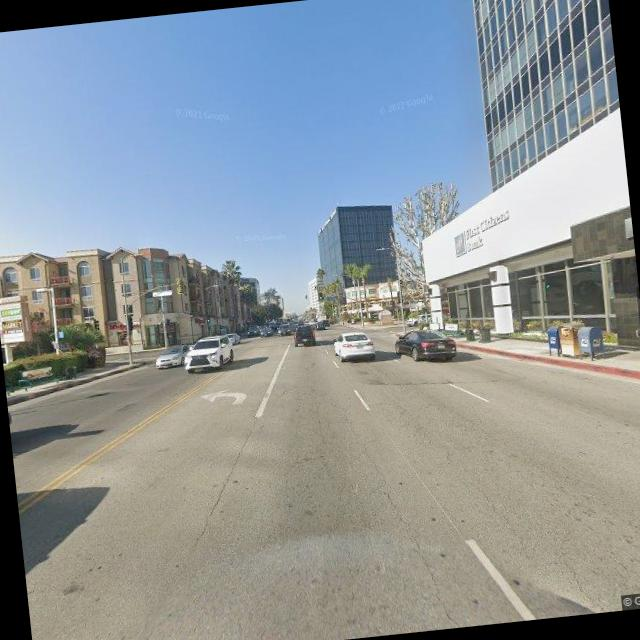pothole: (367, 470, 469, 634)
